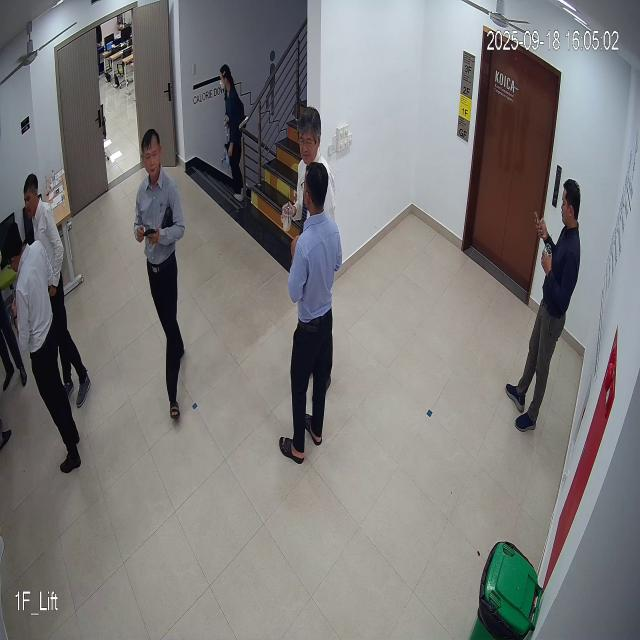face: (135, 128, 168, 181), (295, 112, 325, 170)
